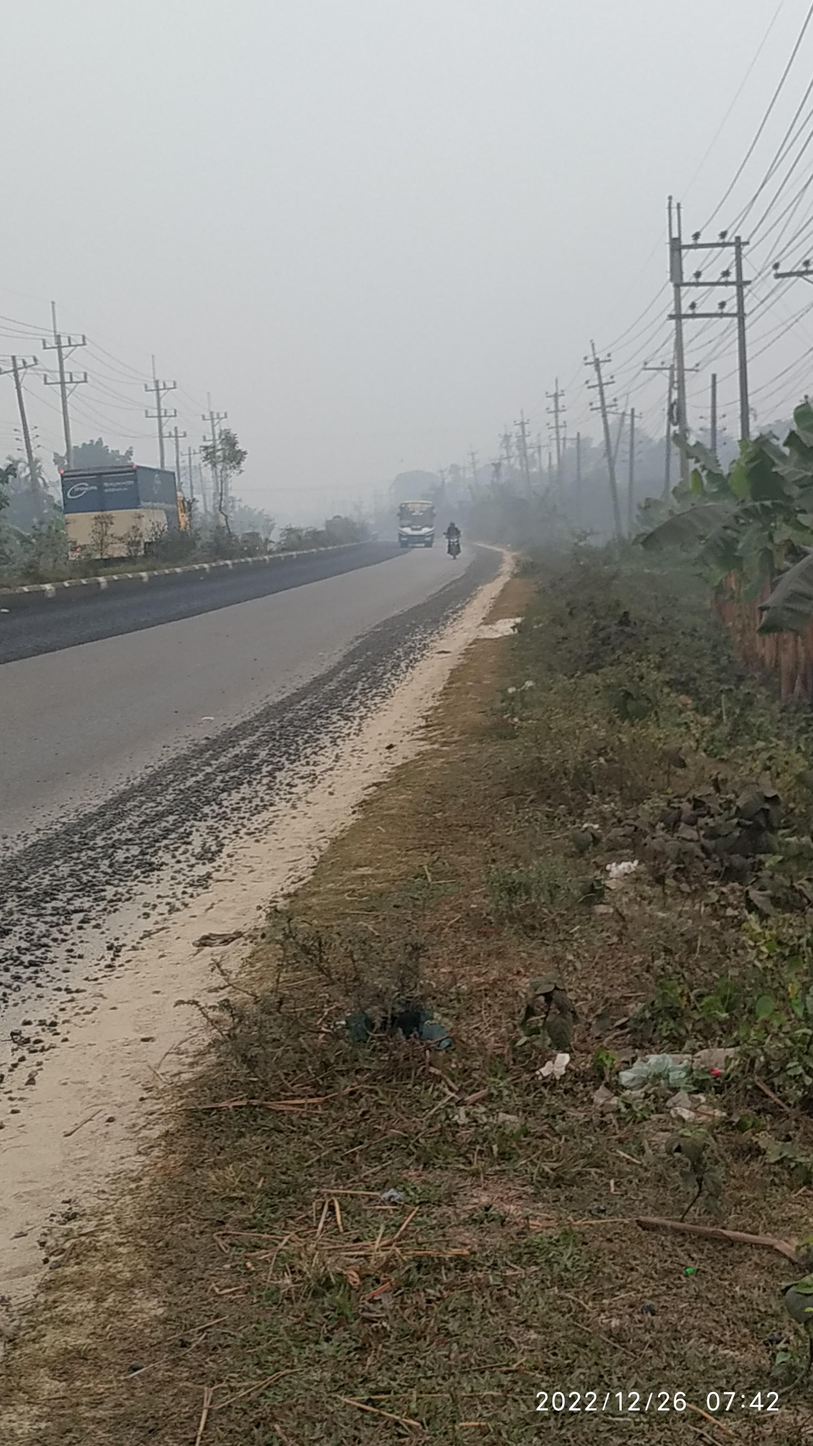Bike: (435, 515, 482, 577)
Bus: (387, 492, 446, 553)
Truck: (51, 453, 206, 563)
